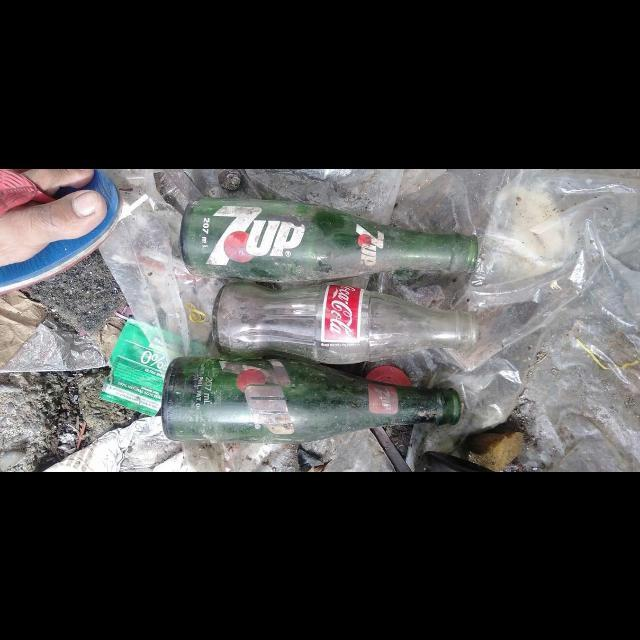glass_bottle: (160, 357, 463, 444), (180, 196, 479, 284), (211, 282, 480, 363)
plastic_sachet: (100, 318, 162, 416)
